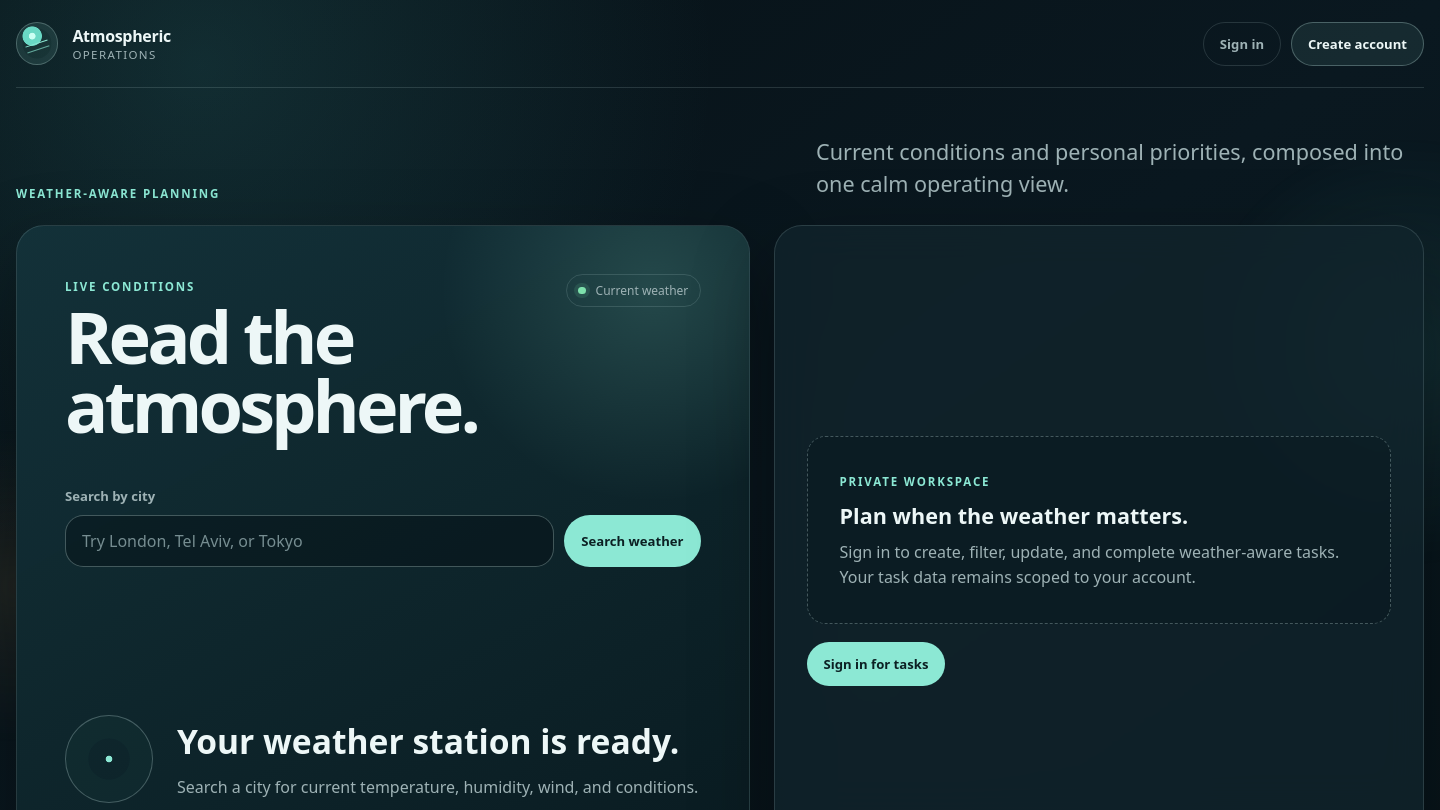
Test: authentication flows › shows a failed login response without persisting a token
The image size is (1440, 810).
Click the button "Sign in".
click(1242, 44)  # box [1203,22,1281,66]
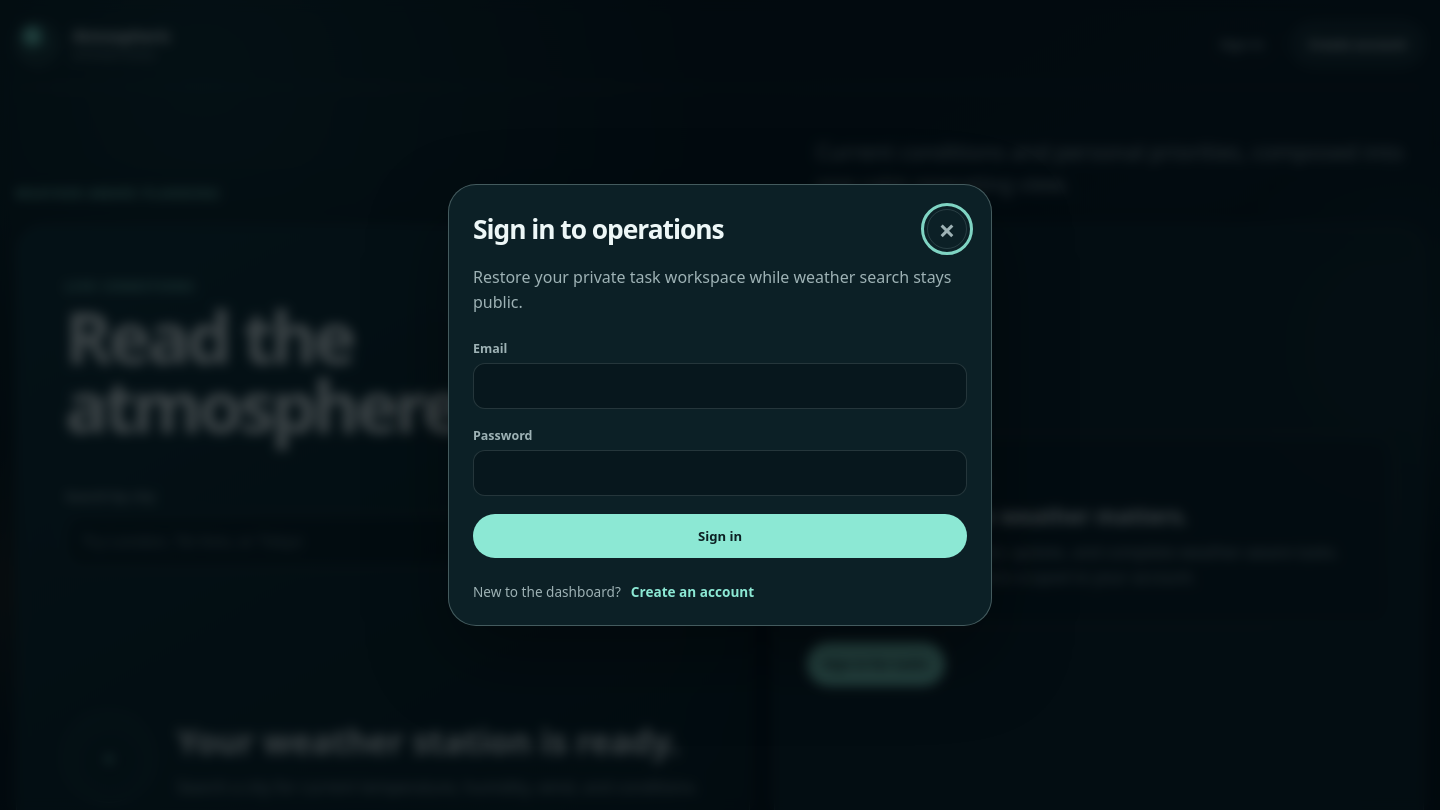
Type "pilot@example.com" into the field labelled "Email".
click(720, 386); type("pilot@example.com")  # box [473,363,967,409]
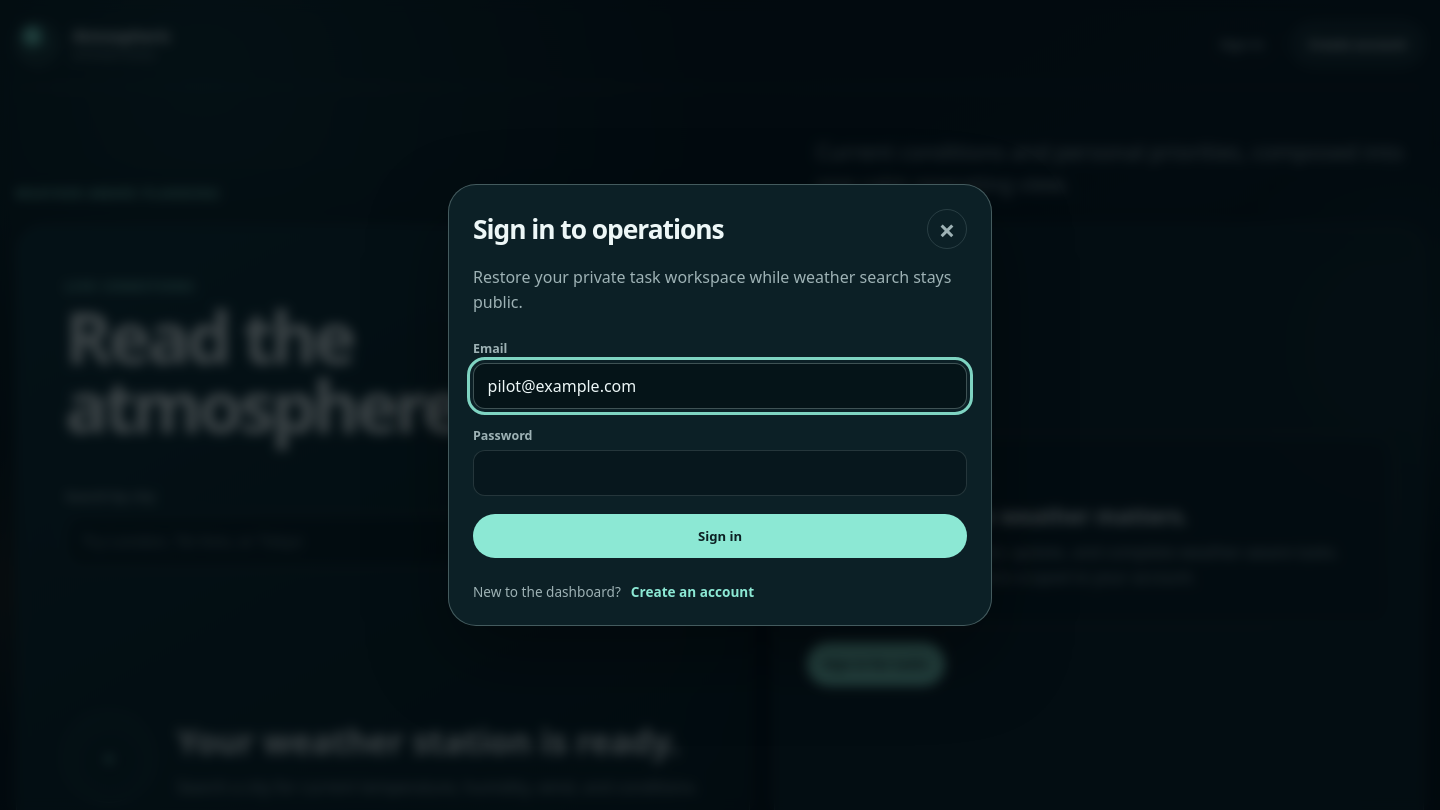
Type "wrong-password" into the password field labelled "Password".
click(720, 473); type("wrong-password")  # box [473,450,967,496]
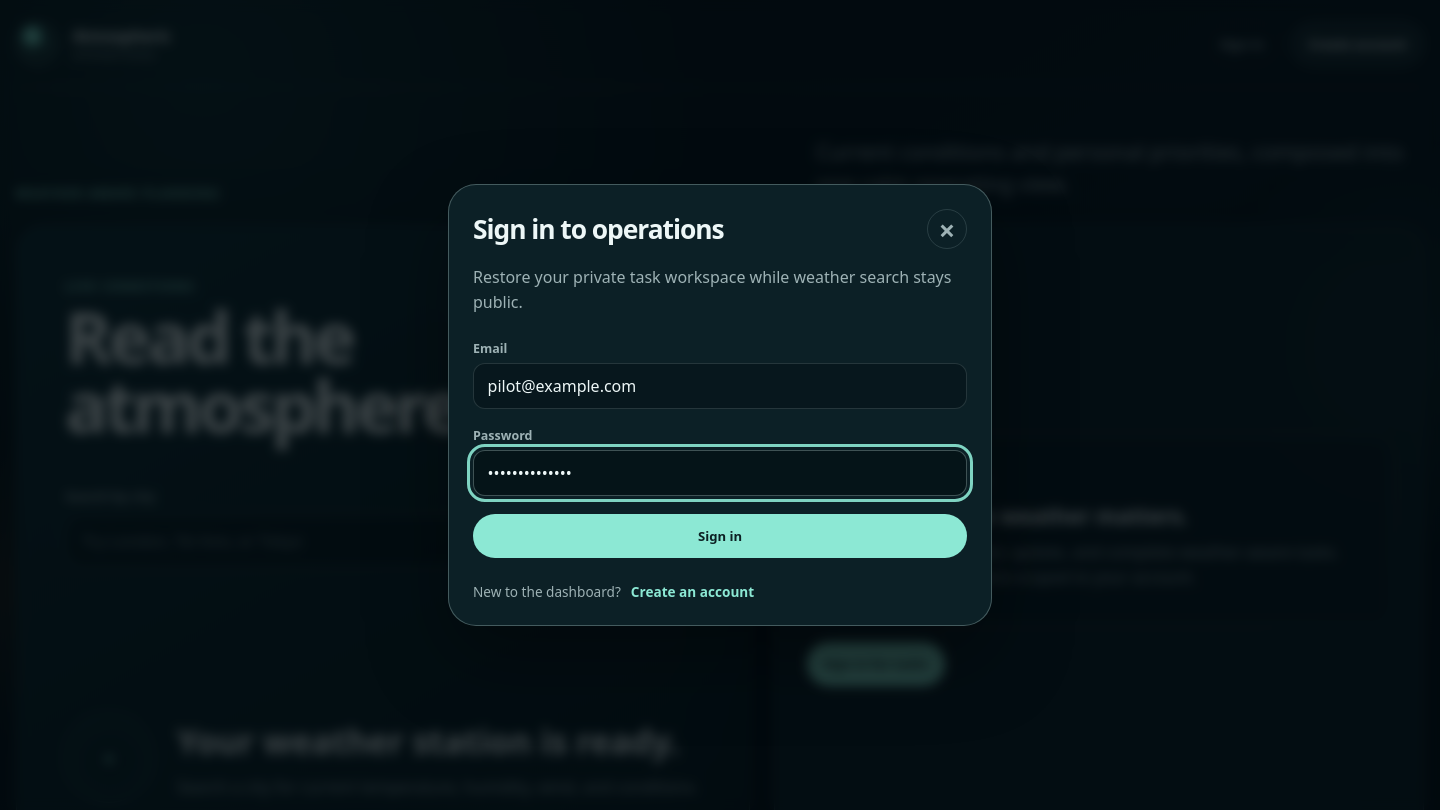
Click the button "Sign in".
click(720, 536)  # box [473,514,967,558]
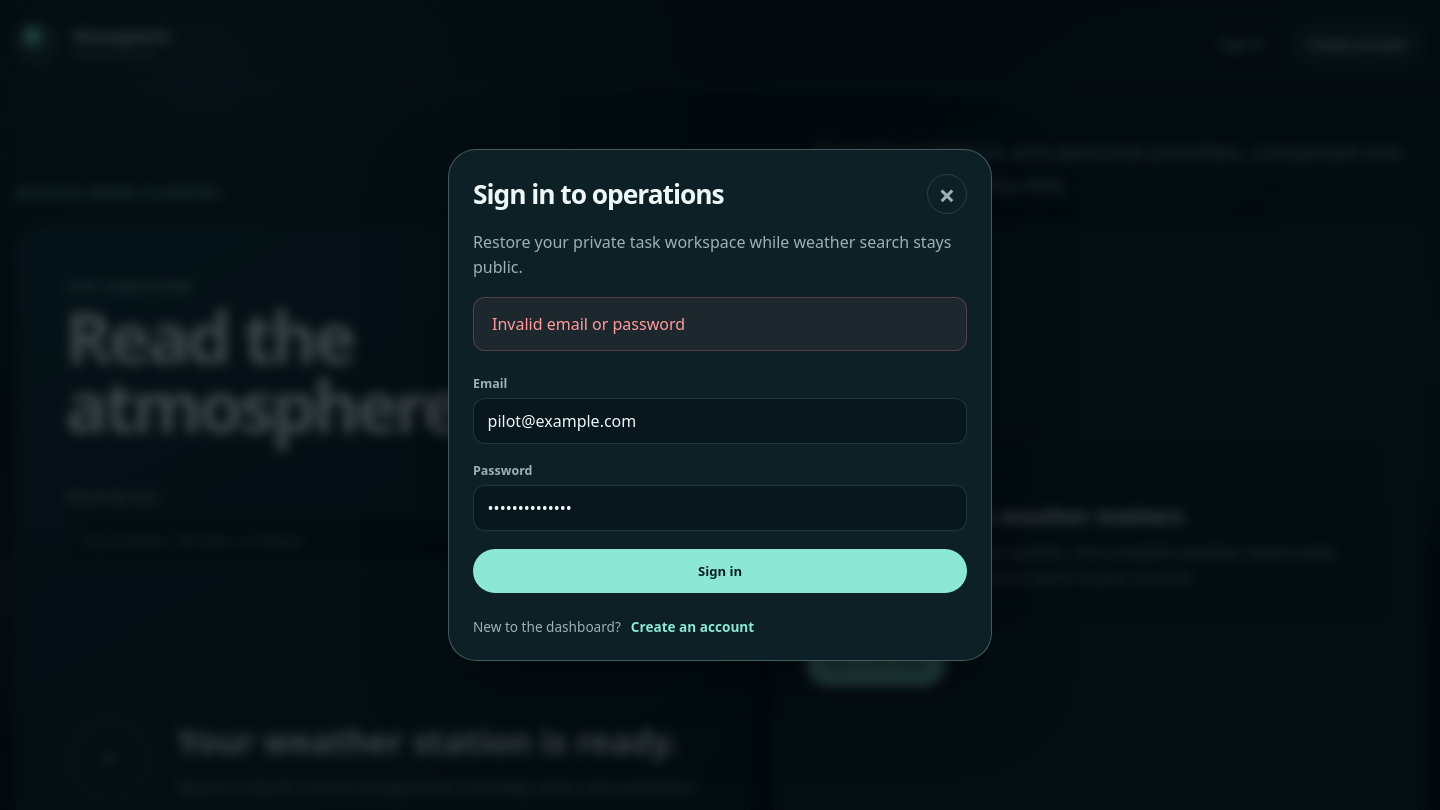
Expected: the text "Invalid email or password" is shown, [473,297,967,351]
